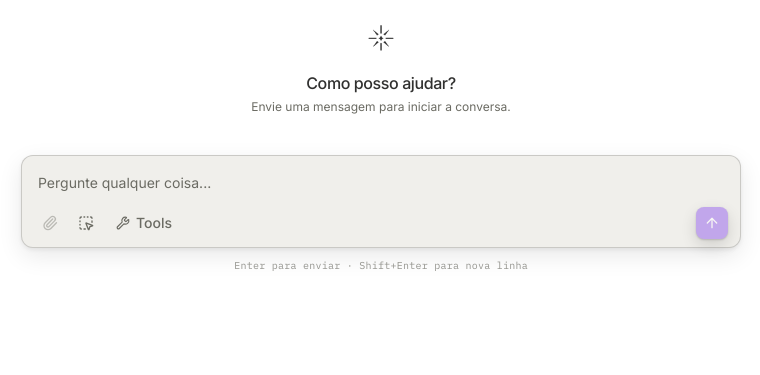
Test: IslandChat › T2.1 envia oi, cria conversa e concatena os chunks
In the text box with placeholder "Pergunte qualquer coisa...": (381, 183) [30, 164, 732, 203], type "oi"
Then press Enter
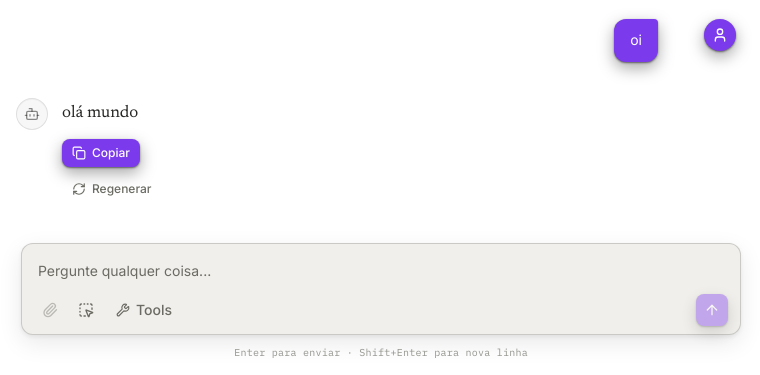
Check: the text "olá mundo" is shown, box [62, 105, 138, 122]
Check: the text "oi" is shown, box [614, 19, 658, 62]
